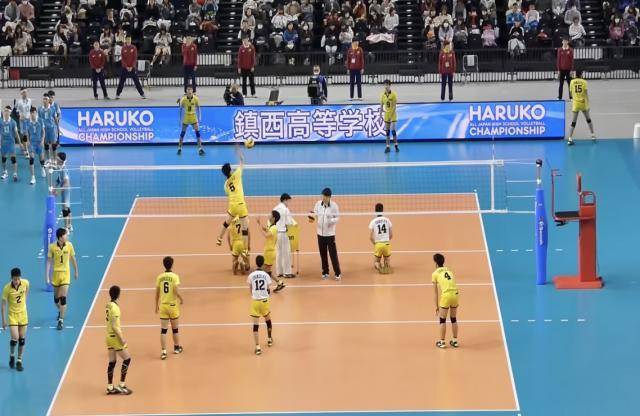spike: (214, 134, 260, 264)
